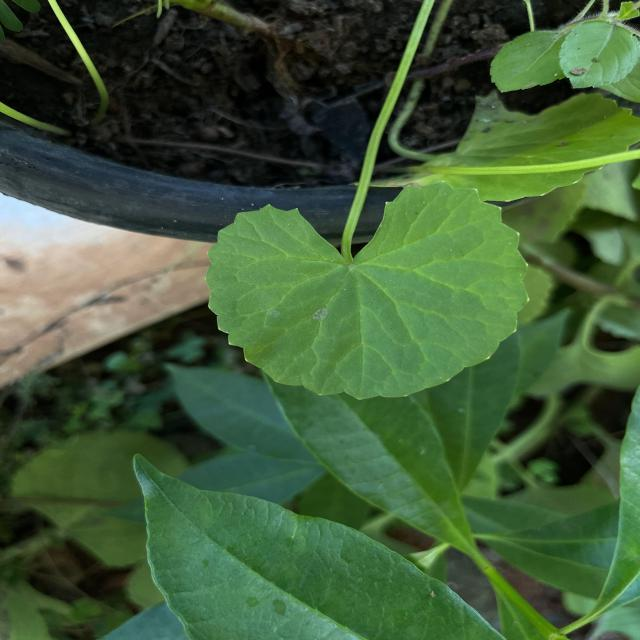Centella asiatica: (202, 176, 532, 404)
